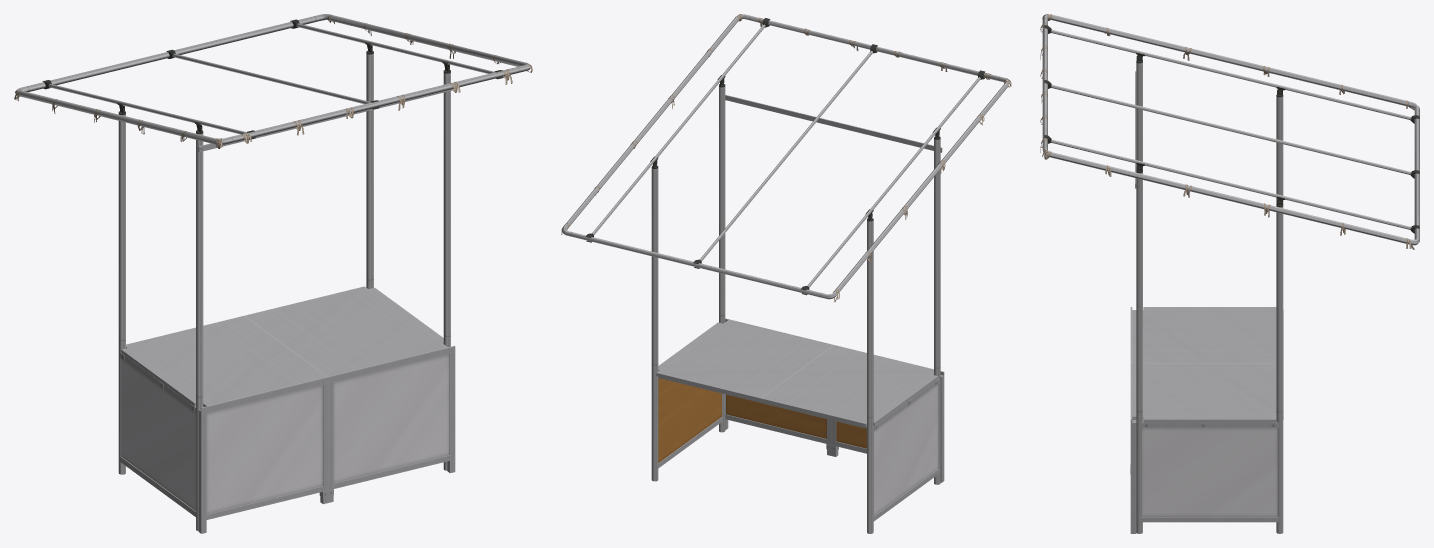
The model's file is jsf_4P_s01_c04_t01.fbx.
3 renders of one model, left to right at view 1: azimuth 30°, elevation 25°; view 2: azimuth 150°, elevation 25°; view 3: azimuth 270°, elevation 25°, orthographic. The views are drawn at different scales.
Visible parts, largest first — view 1: Base_s01_c04, Table_4P_s01_t01, Pillar4_s01, Rope_4P_s01; view 2: Pillar4_s01, Table_4P_s01_t01, Base_s01_c04, Rope_4P_s01; view 3: Pillar4_s01, Table_4P_s01_t01, Base_s01_c04, Rope_4P_s01.
Boxes of the visible parts, x1,y1,x2,y2 form: Base_s01_c04: (120,346,455,533); Table_4P_s01_t01: (121,286,447,412); Pillar4_s01: (15,14,530,530); Rope_4P_s01: (14,14,532,148); Pillar4_s01: (561,14,1010,533); Table_4P_s01_t01: (656,320,938,430); Base_s01_c04: (658,318,944,521); Rope_4P_s01: (561,14,1011,302); Pillar4_s01: (1042,14,1419,533); Table_4P_s01_t01: (1132,307,1283,427); Base_s01_c04: (1130,307,1278,533); Rope_4P_s01: (1040,14,1414,249).
Bounding box in the file's own units: 186 × 243 × 211.
